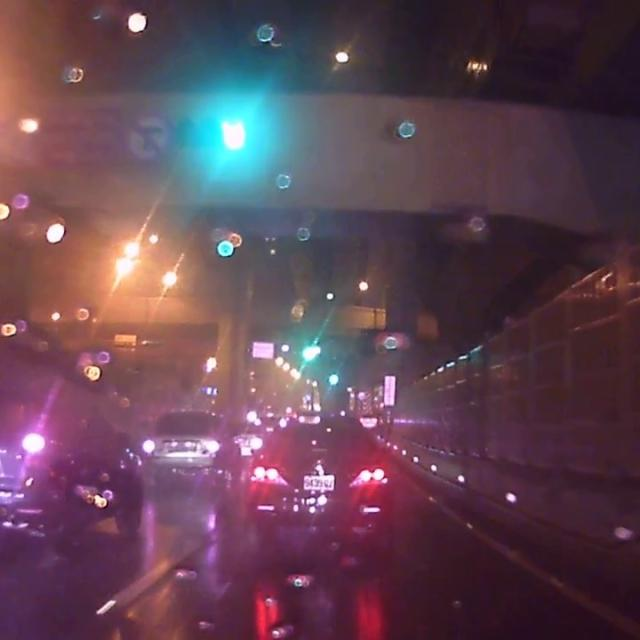Car: (0, 401, 146, 555), (236, 423, 395, 555), (139, 406, 244, 482)
